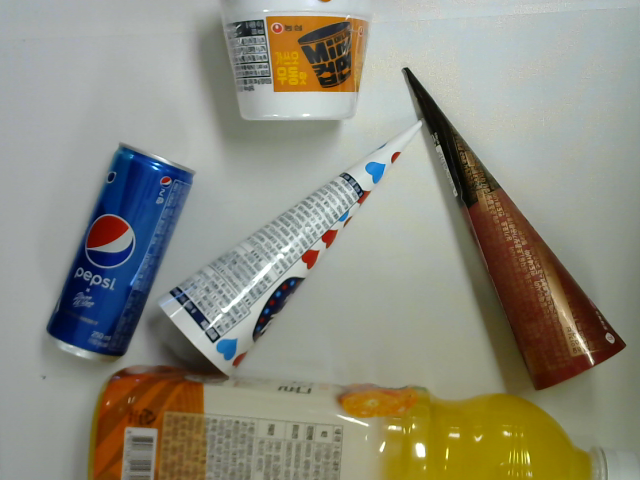Bravo_Cone_(Banila)_CVS: (156, 116, 426, 381)
Jeju_Tangerine_1.5L: (85, 363, 640, 480)
Pepsi_Cola_Can_250ml: (43, 141, 199, 365)
Udongmini: (221, 1, 377, 125)
World_Cone_Choco: (404, 66, 627, 392)
